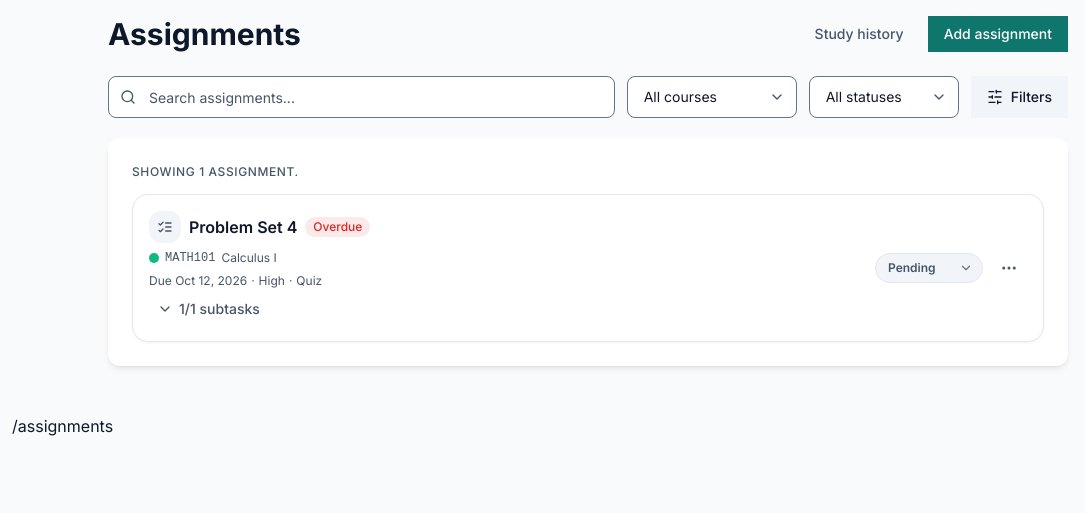
AssignmentsPage › empty state with filters shows clear filters
Check: the button "Problem Set 4" is shown, box [189, 215, 297, 239]
Select "Completed" in the dropdown named "Status" at (884, 97), box [809, 76, 959, 118]
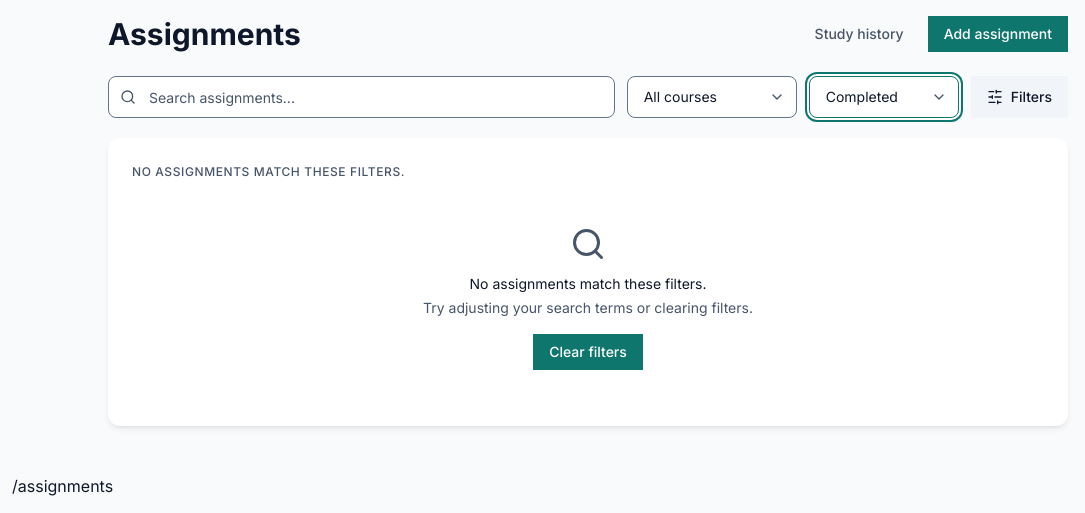
Check: the text "No assignments match these filters." is shown, box [132, 164, 405, 179]
Check: the button "Clear filters" is shown, box [533, 334, 643, 370]
